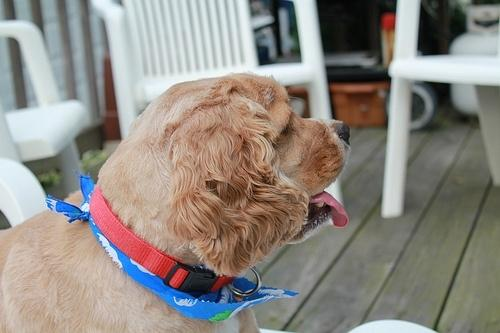dog: (0, 74, 349, 332)
